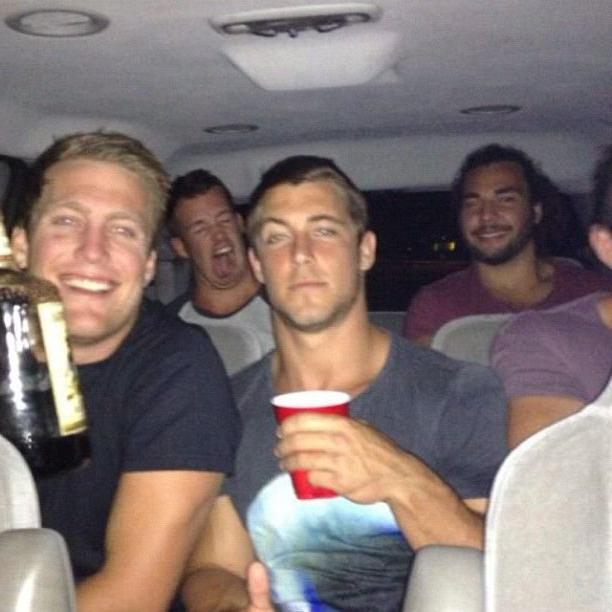Drunk: (42, 155, 152, 338), (263, 185, 355, 321), (175, 193, 249, 288), (464, 164, 525, 258)
